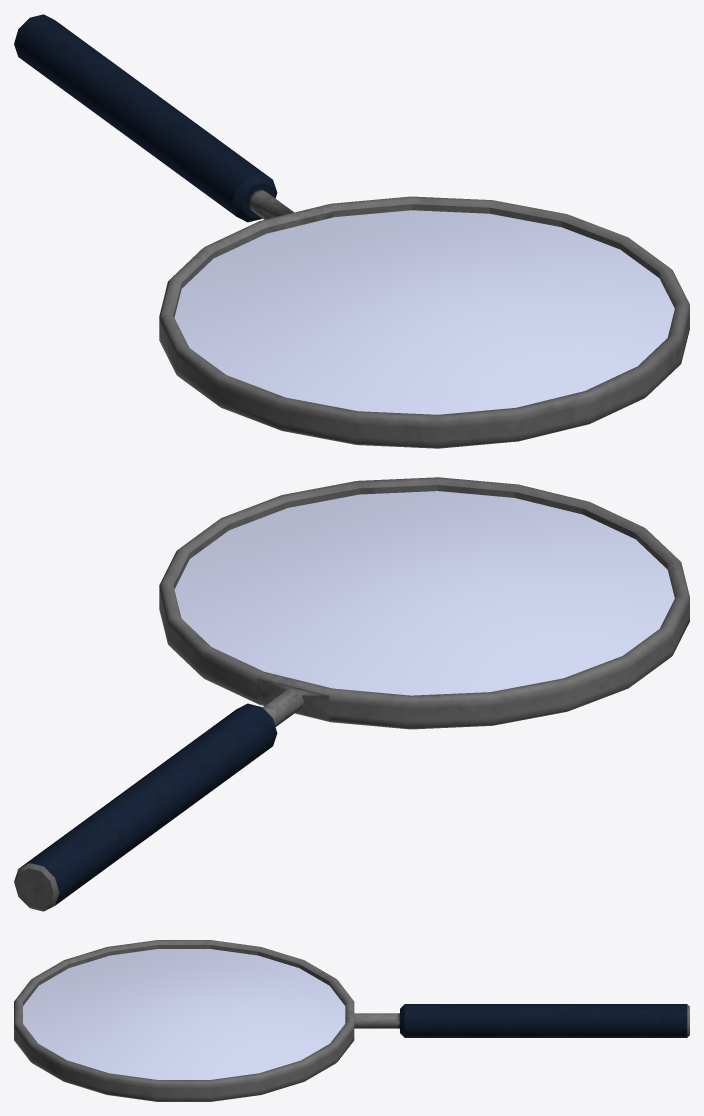
Rendered from detective_magnifyingglass.fbx.
The picture shows the model from 3 angles, top to bottom: view 1: azimuth 30°, elevation 25°; view 2: azimuth 150°, elevation 25°; view 3: azimuth 270°, elevation 25°; orthographic projection. The views are drawn at different scales.
Parts seen in each view (by area): view 1: detective_magnifyingglass:Mesh; view 2: detective_magnifyingglass:Mesh; view 3: detective_magnifyingglass:Mesh.
Boxes of the visible parts, box(x1,y1,x2,y2) form: detective_magnifyingglass:Mesh: box(14, 14, 689, 448); detective_magnifyingglass:Mesh: box(14, 477, 689, 911); detective_magnifyingglass:Mesh: box(14, 940, 689, 1101).
Size of the model in its own units: 2.82 by 0.4214 by 5.6.
